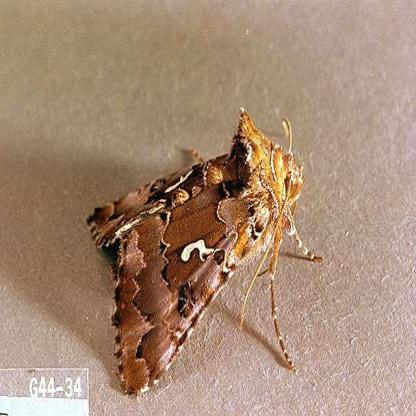armyworm: (87, 111, 312, 392)
